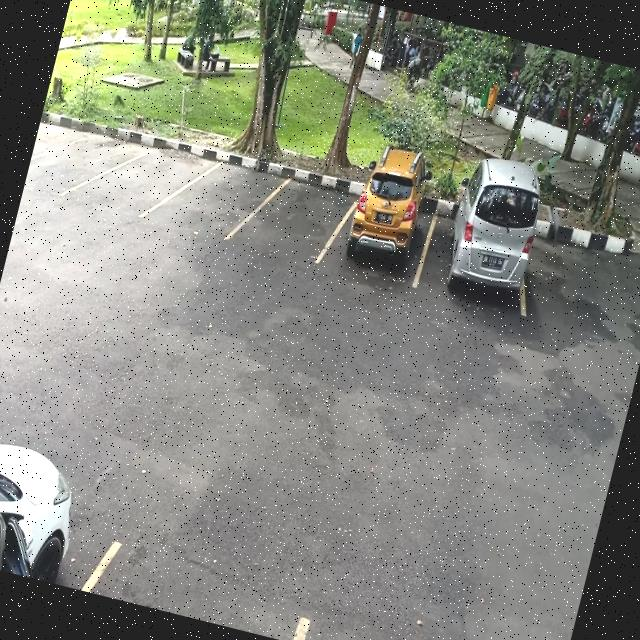empty: (242, 150, 351, 270), (170, 137, 273, 246), (94, 126, 191, 224)
occupied: (414, 185, 546, 314), (326, 158, 443, 285)
